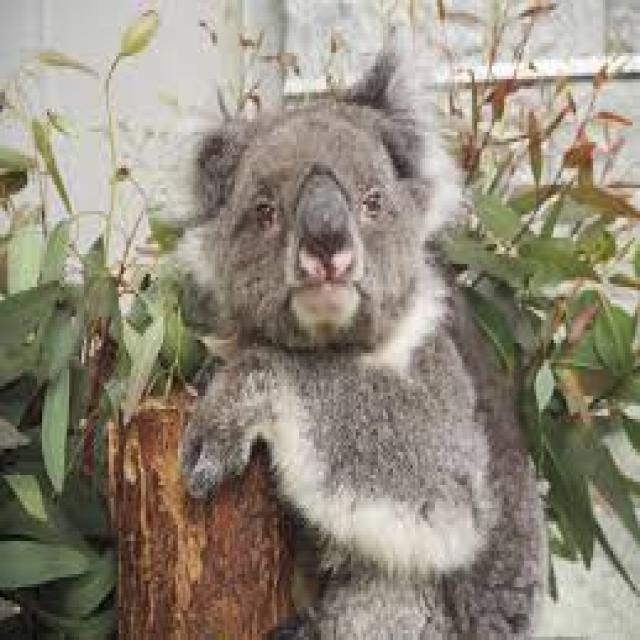Koala: (166, 49, 551, 640)
